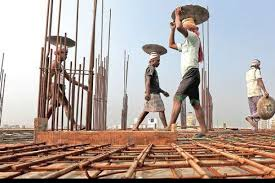arm: (256, 71, 269, 97), (145, 66, 154, 101)
face: (180, 13, 200, 33)
footwear: (245, 112, 260, 122)
glove: (262, 89, 269, 97)
human: (164, 4, 207, 132), (242, 54, 274, 123)
leg: (165, 71, 187, 133), (189, 90, 208, 136), (132, 98, 149, 130), (244, 95, 260, 122), (156, 95, 169, 128)
nofootwear: (198, 127, 207, 136)
noglove: (143, 92, 153, 101), (162, 90, 170, 97)
novest: (169, 28, 201, 76), (244, 66, 263, 96)
